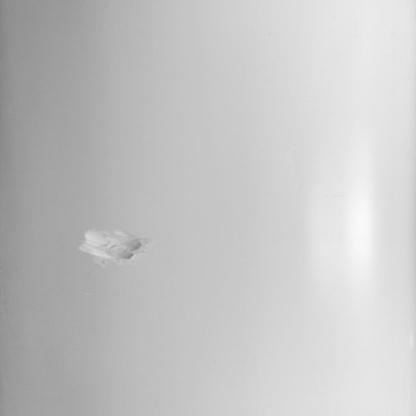sunshang: (75, 226, 148, 265)
